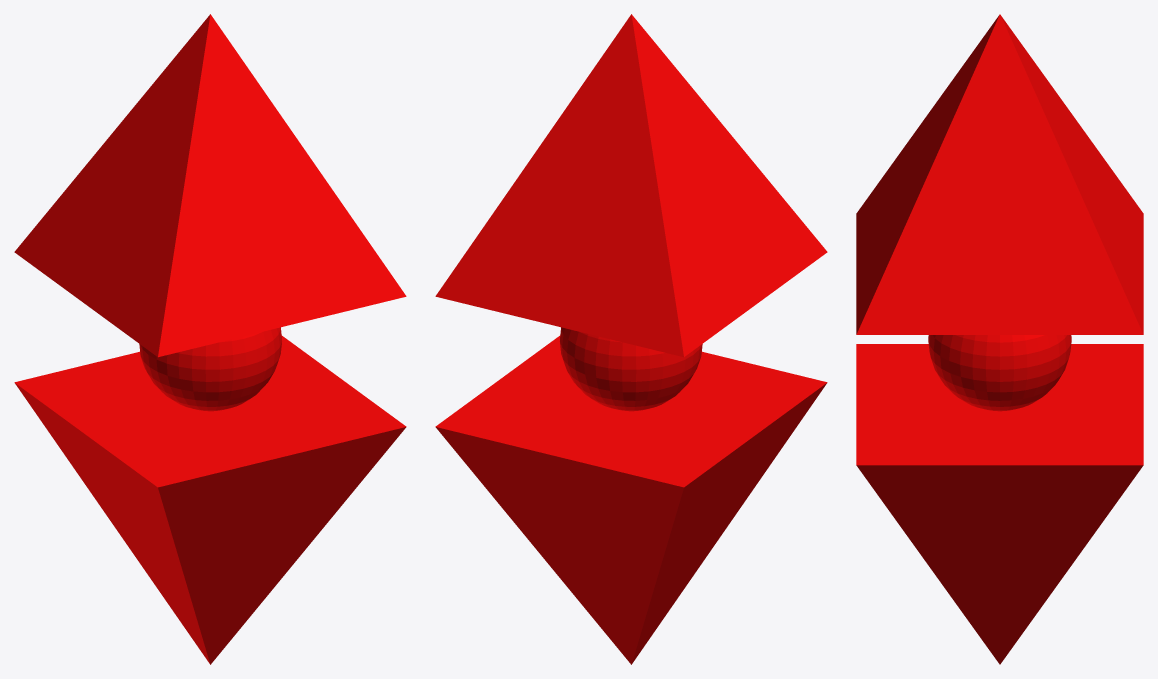
File: Enemy.obj
3 views of the same model, side by side, from view 1: azimuth 30°, elevation 25°; view 2: azimuth 150°, elevation 25°; view 3: azimuth 270°, elevation 25° (orthographic).
Parts seen in each view (by area): view 1: Enemy_球; view 2: Enemy_球; view 3: Enemy_球.
Part boxes in pixels (<box>): Enemy_球: <box>14,14,406,664</box>; Enemy_球: <box>435,14,827,664</box>; Enemy_球: <box>856,14,1143,664</box>.
Bounding box in the file's own units: 2 × 5 × 2.
